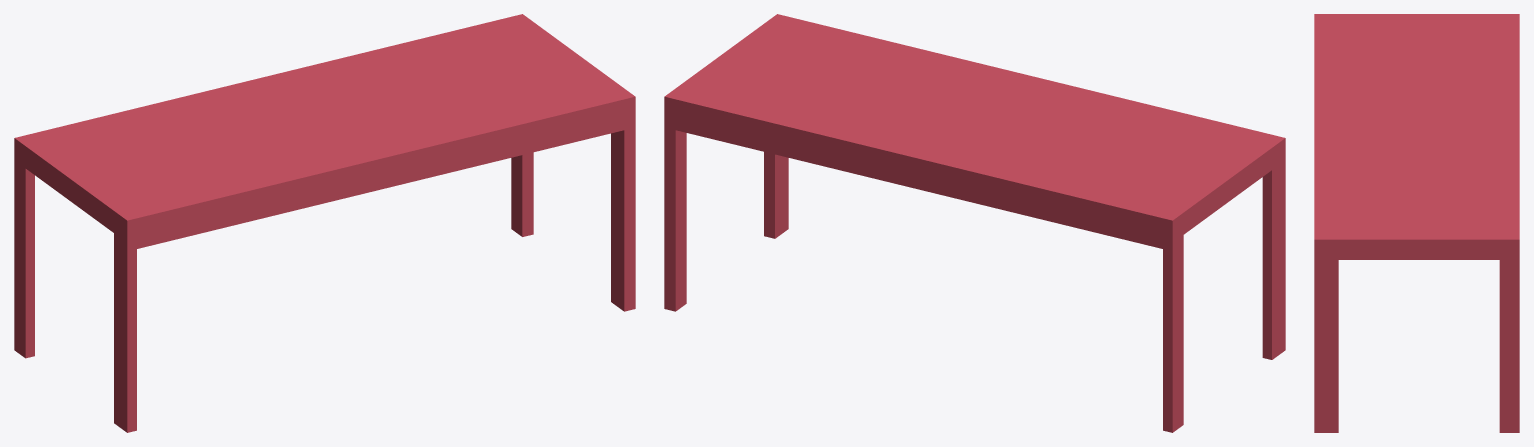
The model's file is table.glb.
3 renders of one model, left to right at view 1: azimuth 30°, elevation 25°; view 2: azimuth 150°, elevation 25°; view 3: azimuth 270°, elevation 25°, orthographic. The views are drawn at different scales.
Parts seen in each view (by area): view 1: Mesh_Mesh_head_geo.001_lambert2SG.001; view 2: Mesh_Mesh_head_geo.001_lambert2SG.001; view 3: Mesh_Mesh_head_geo.001_lambert2SG.001.
Part boxes in pixels (x1=…): Mesh_Mesh_head_geo.001_lambert2SG.001: x1=14, y1=14, x2=635, y2=432; Mesh_Mesh_head_geo.001_lambert2SG.001: x1=664, y1=14, x2=1285, y2=432; Mesh_Mesh_head_geo.001_lambert2SG.001: x1=1314, y1=14, x2=1519, y2=432.
Size of the model in its own units: 159 by 63.29 by 61.
